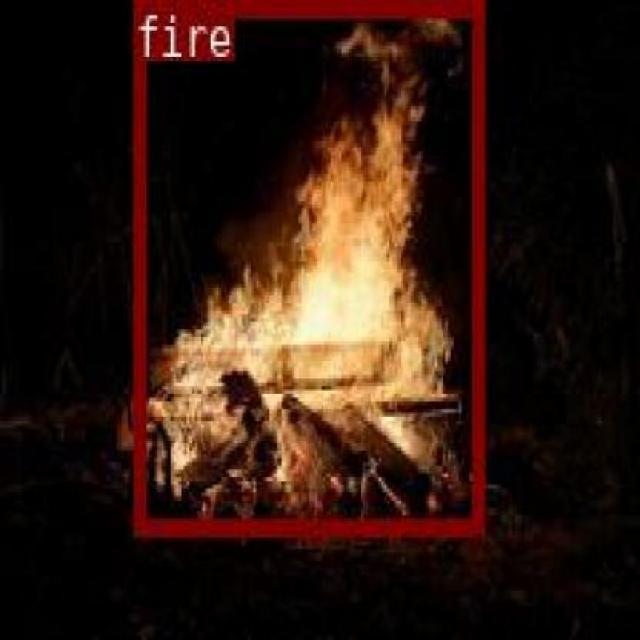Fire: (132, 0, 482, 531)
